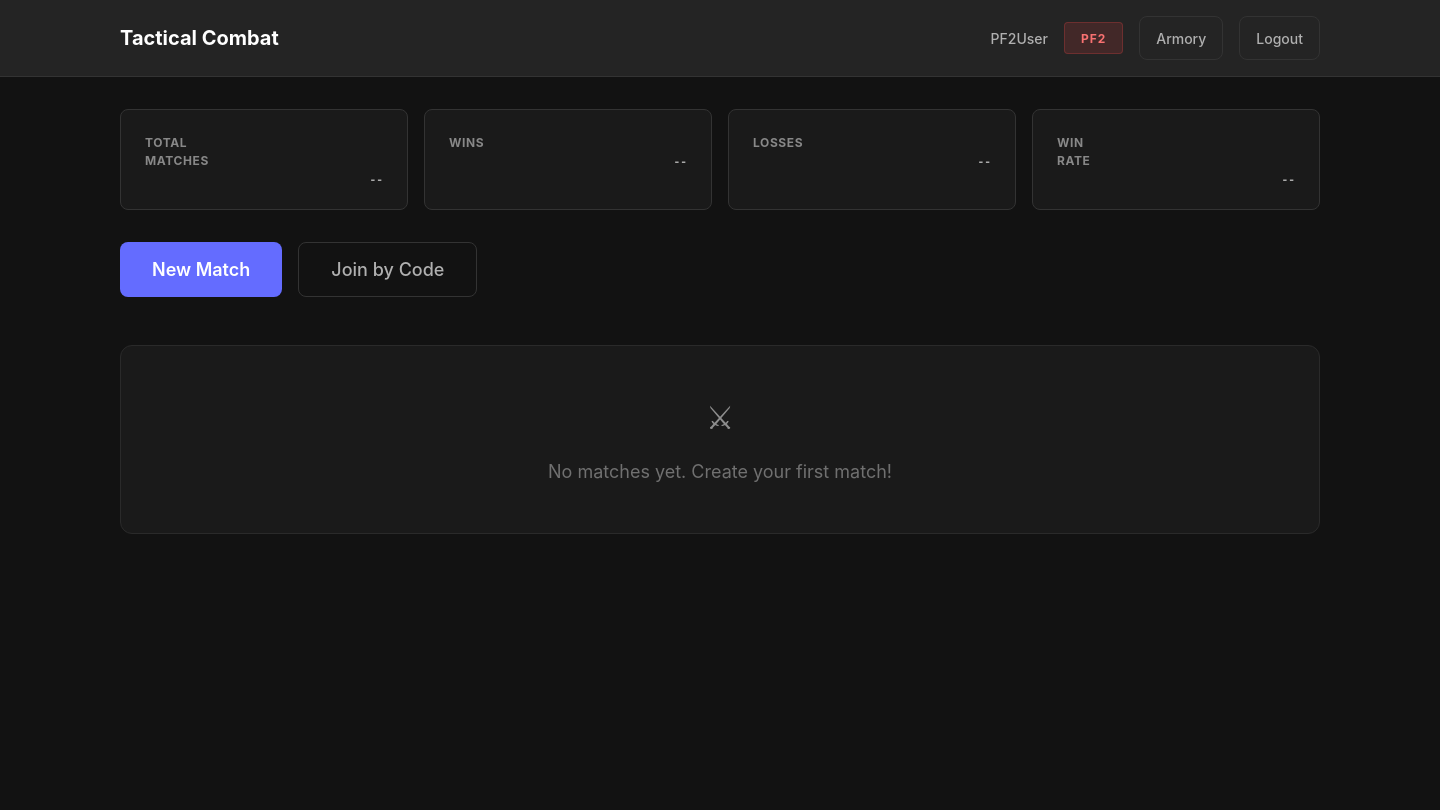
Test: Dashboard › PF2 user clicking badge switches to GURPS
The image size is (1440, 810).
What coordinates should you click on to do the following:
click the button "PF2"
I would click on:
 (1094, 38)
Its box is [1064,22,1123,54].
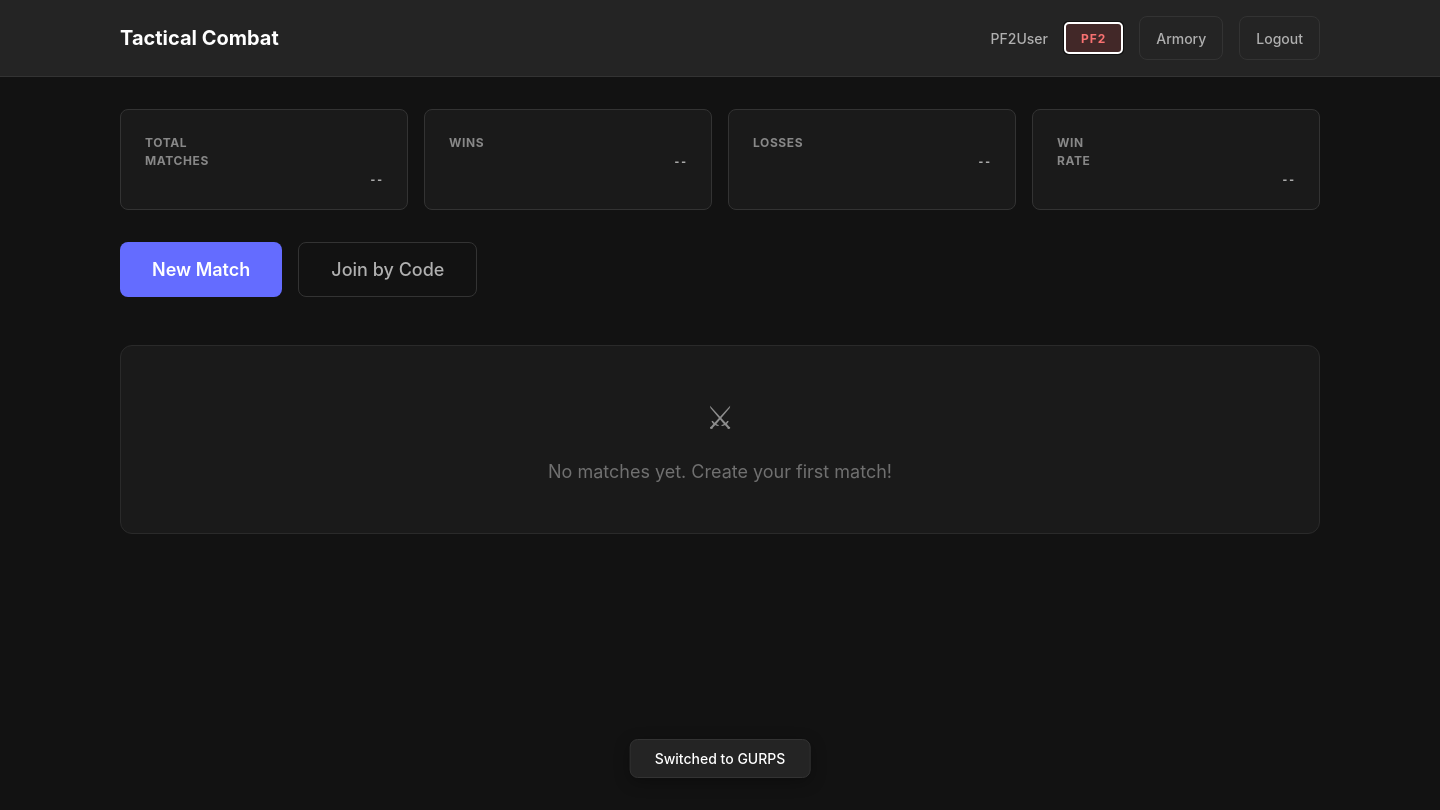
Expected: the text "Switched to GURPS" is shown, [630,739,810,778]
